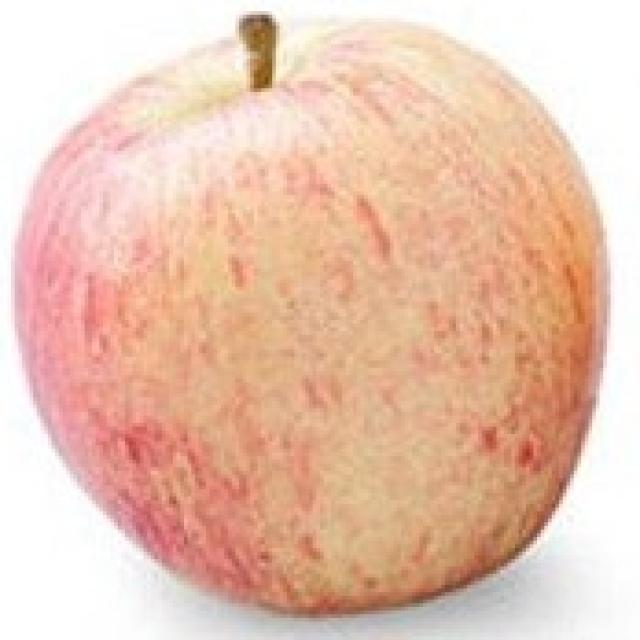75-_ripeness: (12, 18, 592, 616)
